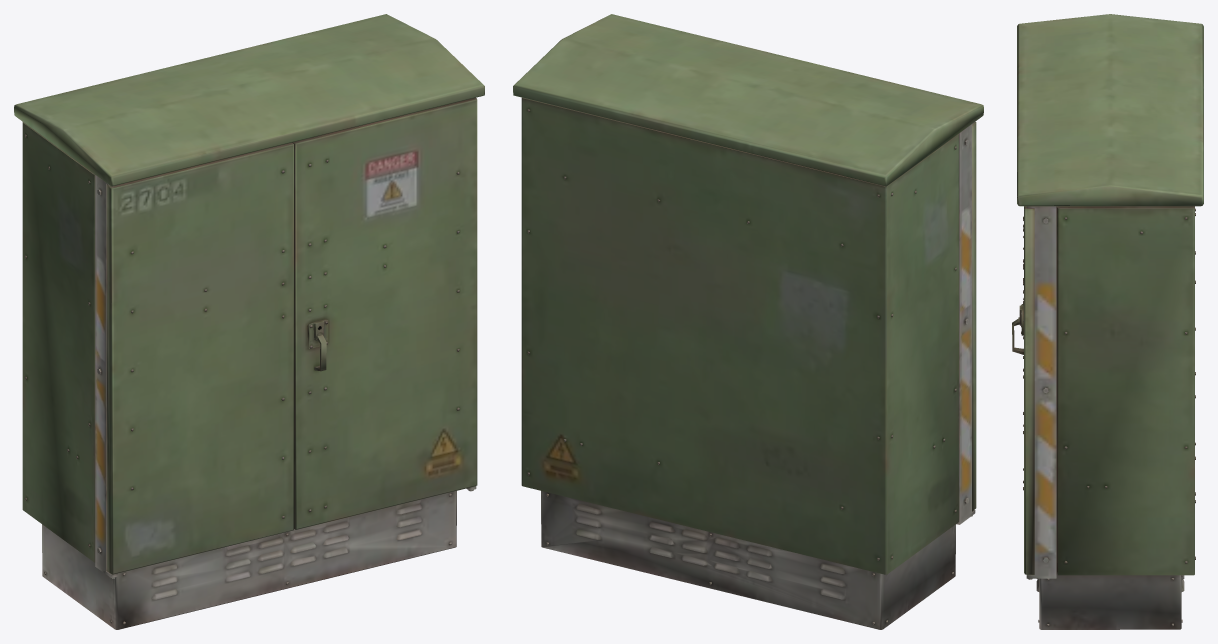
The model's file is utilityBox.glb.
3 views of the same model, side by side, from view 1: azimuth 30°, elevation 25°; view 2: azimuth 150°, elevation 25°; view 3: azimuth 270°, elevation 25° (orthographic). The views are drawn at different scales.
Visible parts, largest first — view 1: utility_box_02; view 2: utility_box_02; view 3: utility_box_02.
Part boxes in pixels (x1=…): utility_box_02: x1=14, y1=14, x2=484, y2=629; utility_box_02: x1=513, y1=14, x2=983, y2=629; utility_box_02: x1=1012, y1=14, x2=1203, y2=629.
Size of the model in its own units: 0.92 by 1.12 by 0.4311.
Materials: 1 (1 with a texture image).
